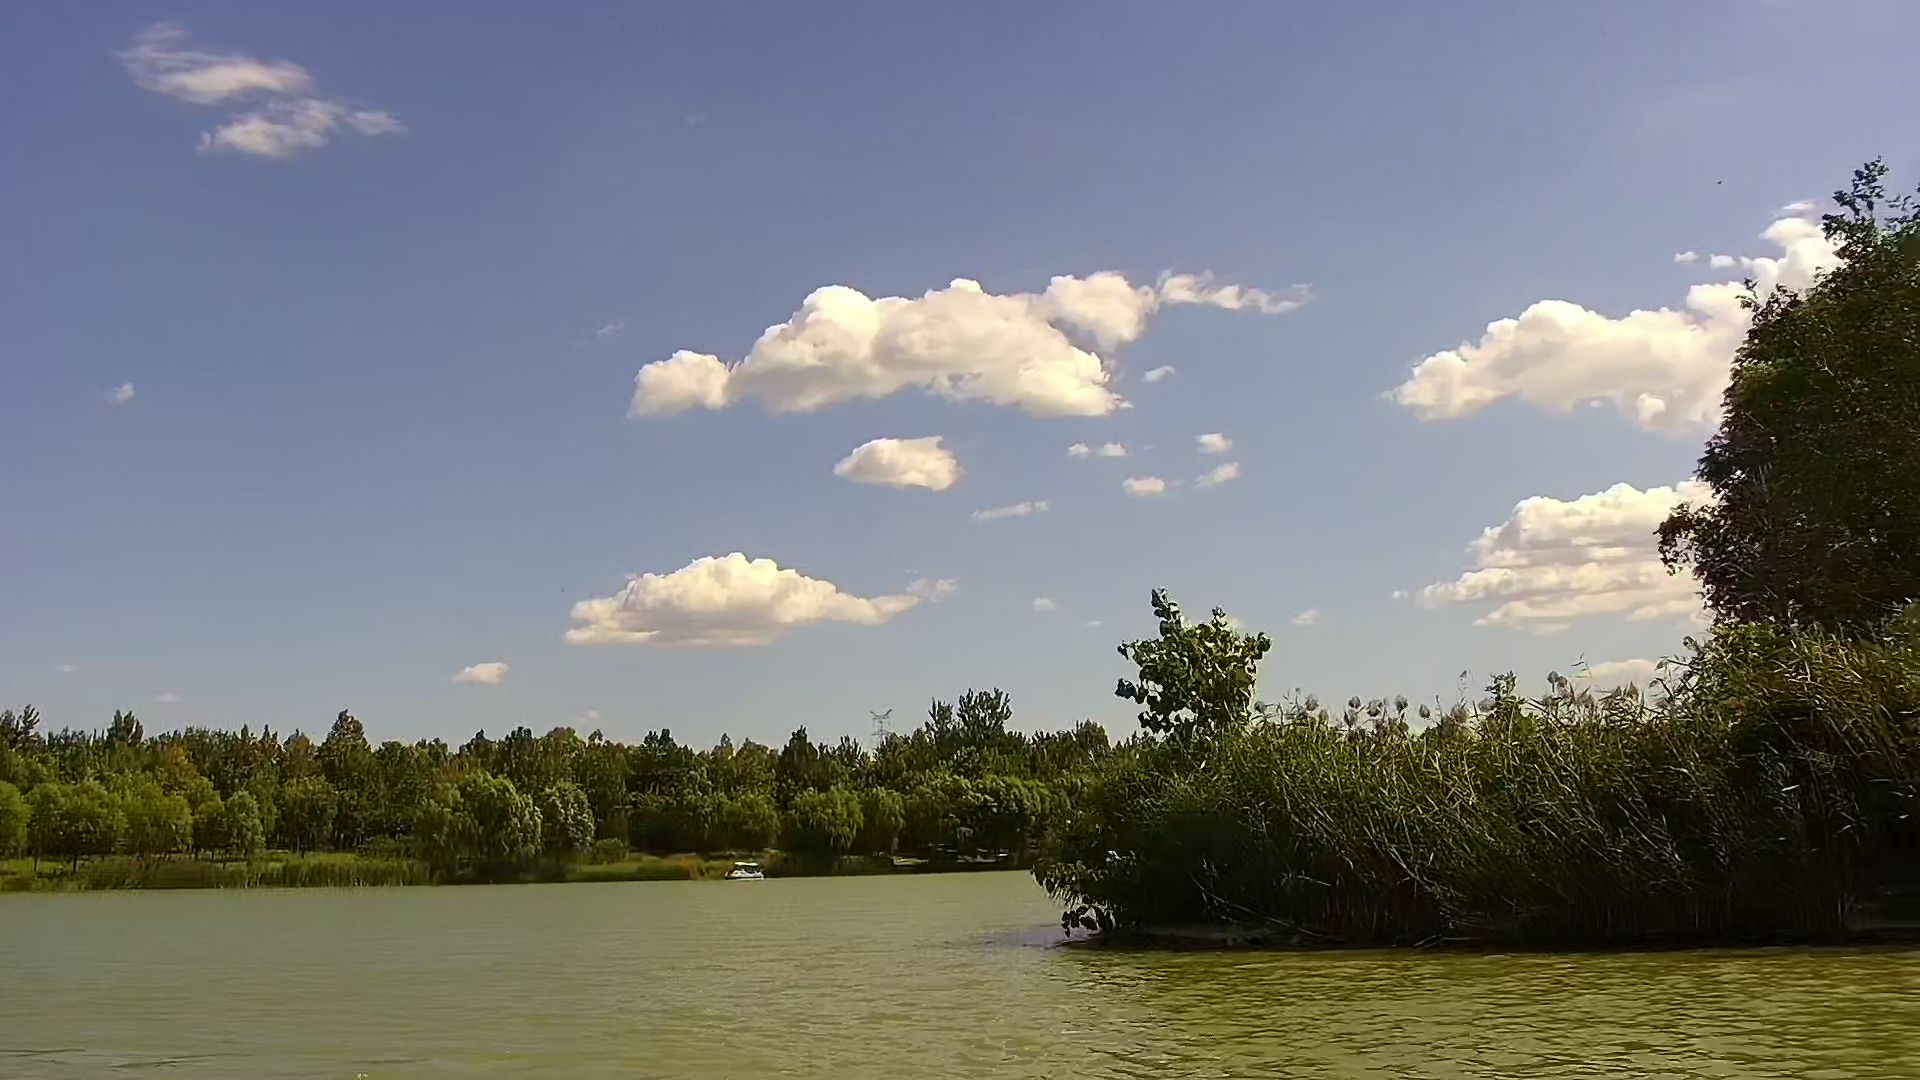boat: (725, 858, 769, 882)
